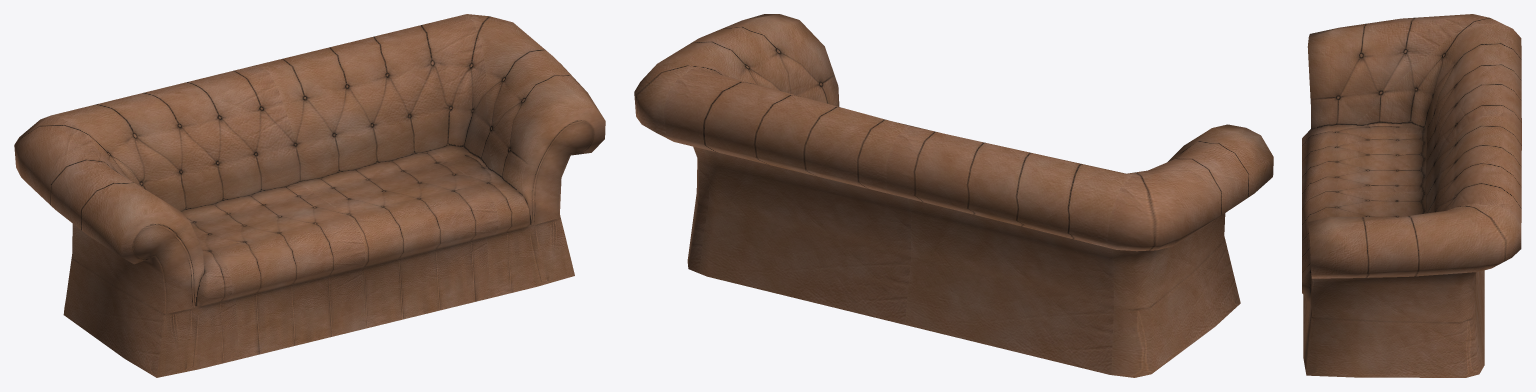
The model's file is Sofa01.FBX.
3 renders of one model, left to right at view 1: azimuth 30°, elevation 25°; view 2: azimuth 150°, elevation 25°; view 3: azimuth 270°, elevation 25°, orthographic. The views are drawn at different scales.
Parts seen in each view (by area): view 1: Sofa002; view 2: Sofa002; view 3: Sofa002.
Part boxes in pixels (x1,y1,x2,y2): Sofa002: [14, 14, 605, 377]; Sofa002: [634, 14, 1273, 377]; Sofa002: [1302, 14, 1521, 377].
Size of the model in its own units: 350 by 144 by 123.
